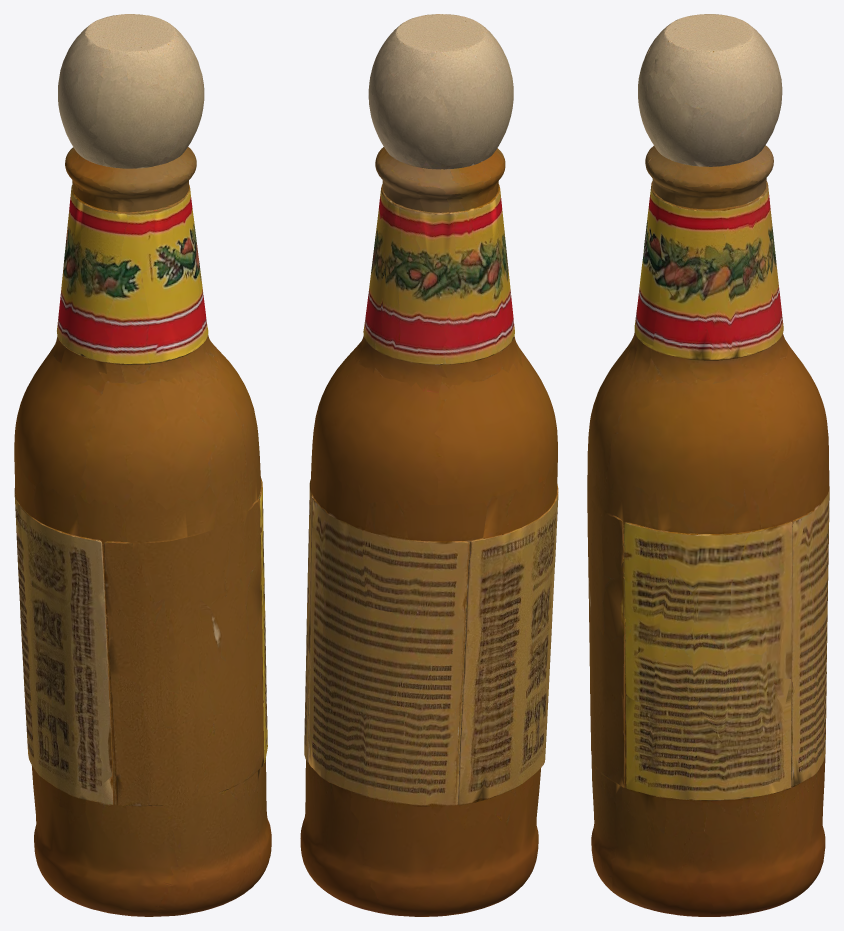
File: kitchen-hot-sauce-01.glb
3 views of the same model, side by side, from view 1: azimuth 30°, elevation 25°; view 2: azimuth 150°, elevation 25°; view 3: azimuth 270°, elevation 25° (orthographic).
Visible parts, largest first — view 1: mesh_node; view 2: mesh_node; view 3: mesh_node.
Boxes of the visible parts, bbox=[...] form: mesh_node: bbox=[14, 14, 271, 916]; mesh_node: bbox=[300, 14, 558, 916]; mesh_node: bbox=[587, 14, 829, 916].
Size of the model in its own units: 0.5295 by 1.9 by 0.5021.
1 material, 1 textured.
